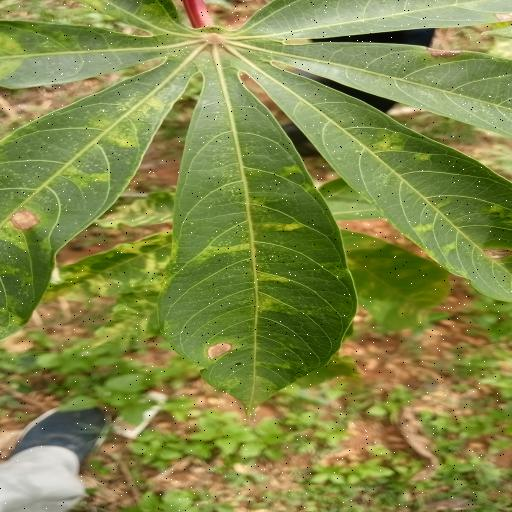Cassava_Brown_Leaf_Spot: (3, 3, 512, 407)
